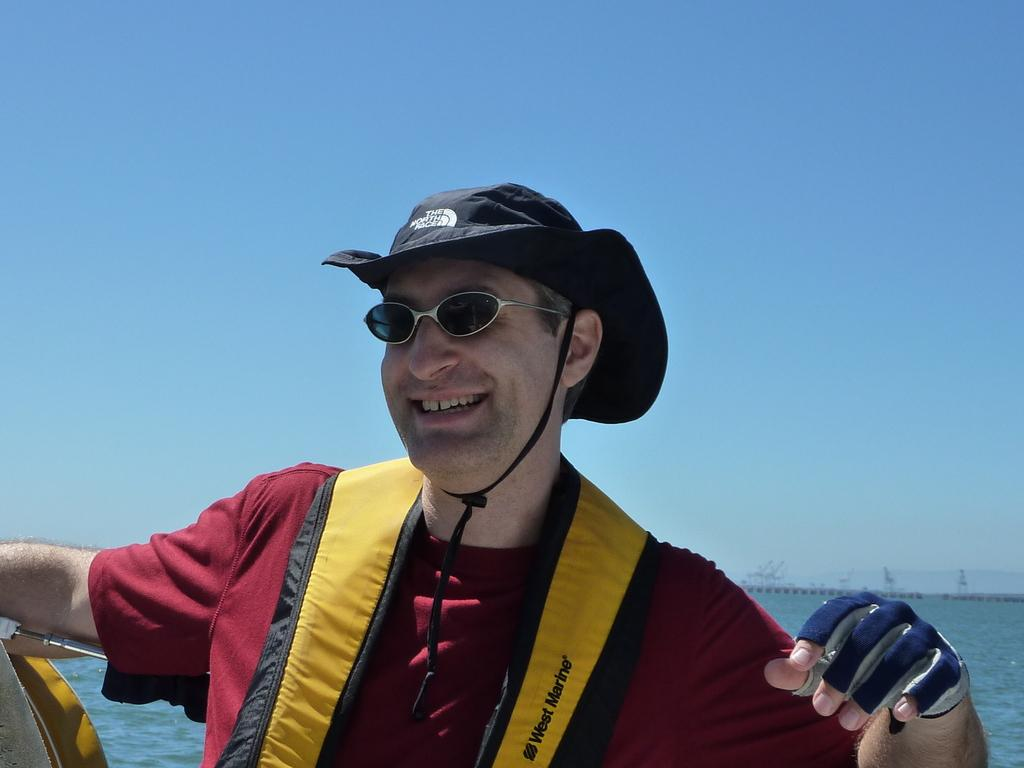Hat: (322, 181, 672, 714)
